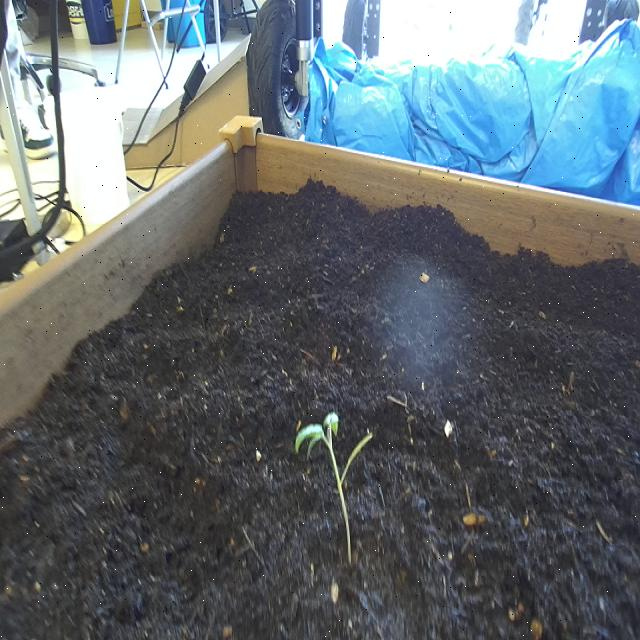Healthy: (294, 405, 378, 572)
